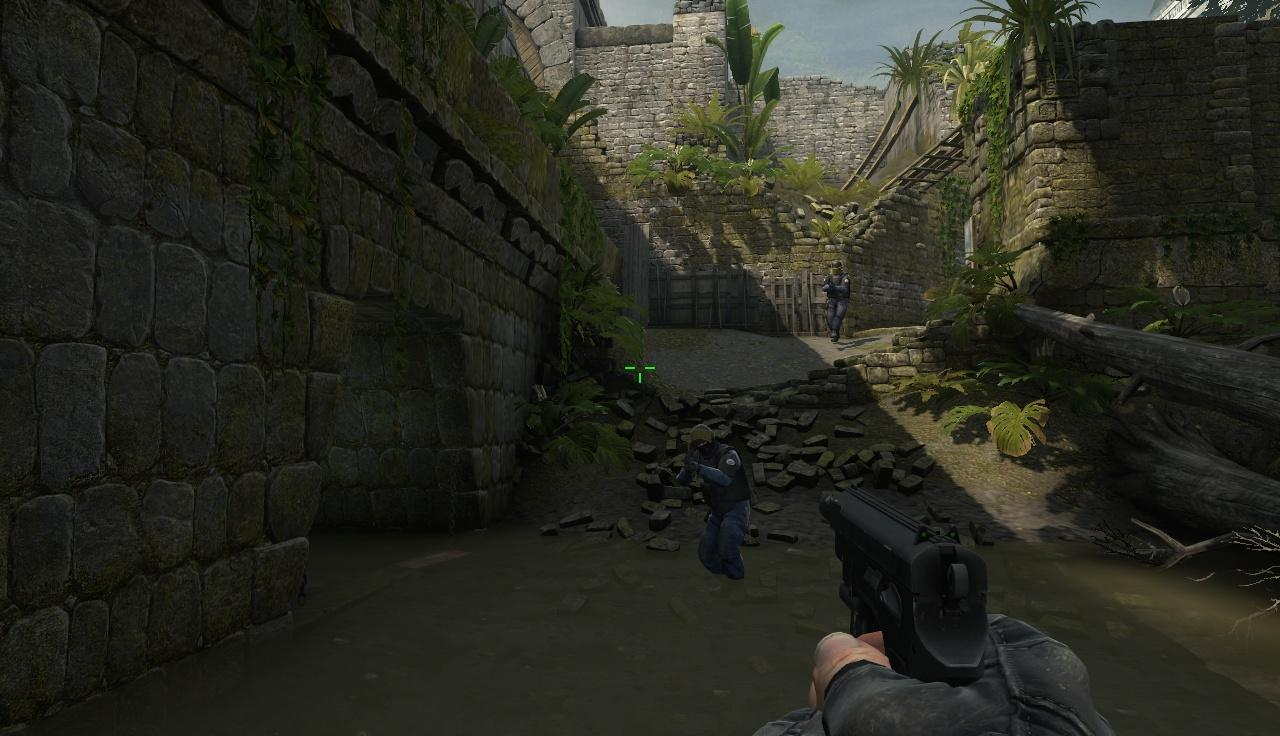ct: (689, 421, 751, 578), (825, 262, 849, 344)
cthead: (689, 425, 714, 454), (830, 260, 843, 276)
pistol: (814, 498, 1034, 736)
